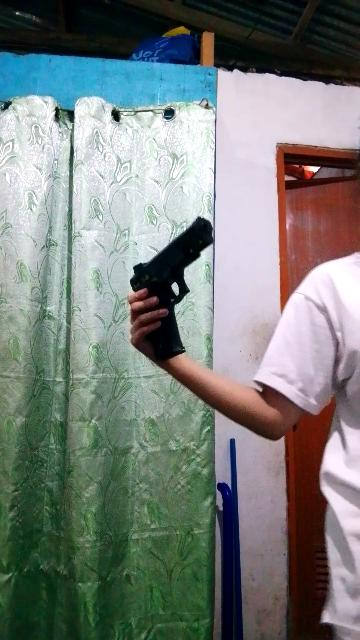pistol: (112, 208, 214, 366)
